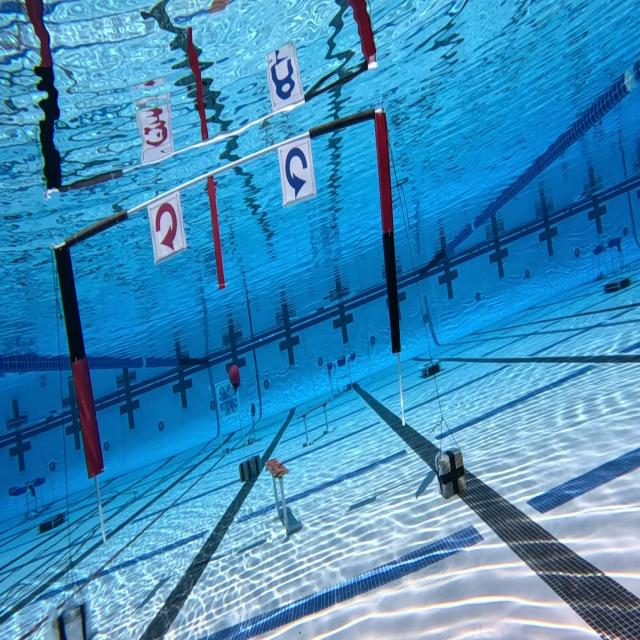blue_side: (272, 141, 326, 217)
red_side: (140, 200, 192, 268)
